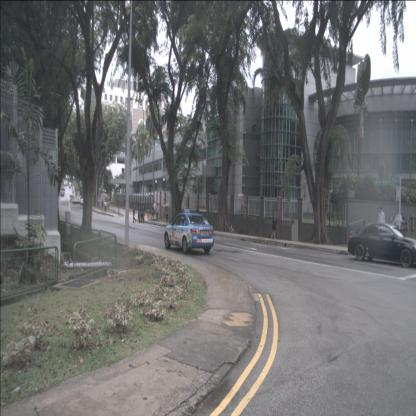human-pedestrian-adult: (392, 209, 402, 244), (377, 207, 385, 246), (271, 211, 278, 240), (164, 204, 171, 224), (154, 202, 160, 222), (132, 202, 137, 223), (140, 203, 145, 223), (151, 202, 155, 222), (142, 203, 146, 220), (140, 202, 143, 223), (101, 199, 104, 213), (153, 202, 156, 216), (138, 203, 140, 223), (104, 200, 107, 212)
vehicle-car: (347, 220, 416, 269), (164, 212, 214, 254), (78, 196, 84, 203), (80, 198, 86, 205), (60, 188, 64, 197)
vehicle-truck: (72, 195, 80, 204)
